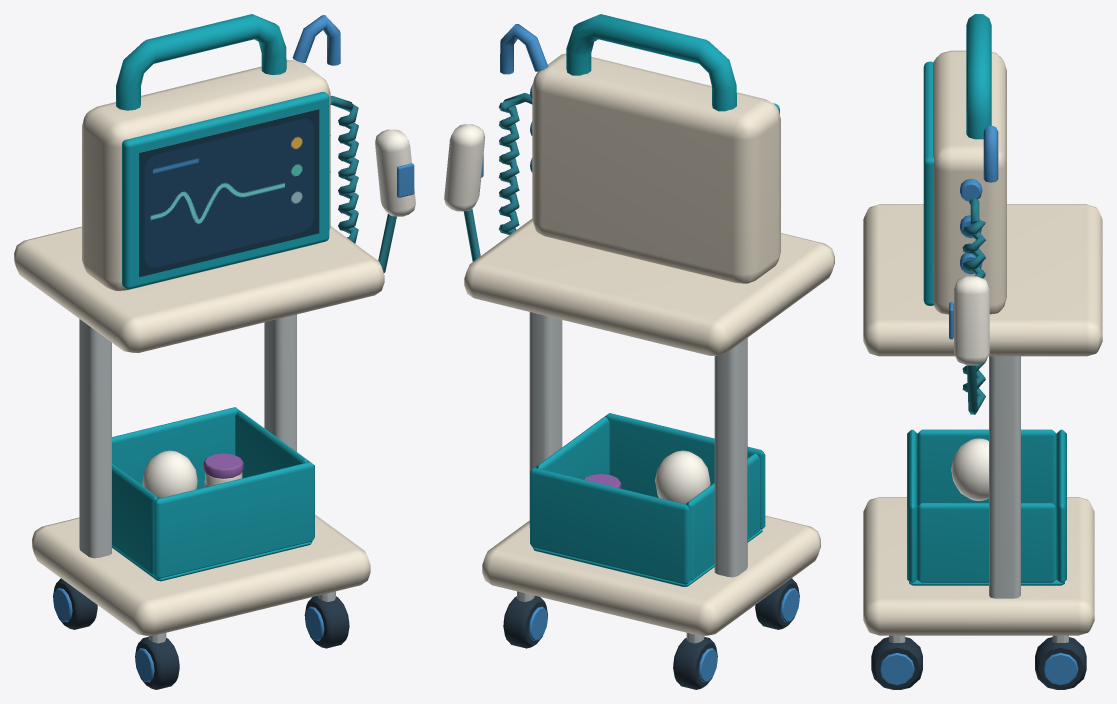
The model's file is medical-12.glb.
3 renders of one model, left to right at view 1: azimuth 30°, elevation 25°; view 2: azimuth 150°, elevation 25°; view 3: azimuth 270°, elevation 25°, orthographic.
Parts seen in each view (by area): view 1: 12_ScopeAir_VitaDock_Body; view 2: 12_ScopeAir_VitaDock_Body; view 3: 12_ScopeAir_VitaDock_Body.
Part boxes in pixels (x1,y1,x2,y2): 12_ScopeAir_VitaDock_Body: [14, 14, 415, 689]; 12_ScopeAir_VitaDock_Body: [444, 14, 834, 689]; 12_ScopeAir_VitaDock_Body: [863, 14, 1102, 689].
Bounding box in the file's own units: 0.9781 × 1.67 × 0.6.
Materials: 1 (1 with a texture image).
